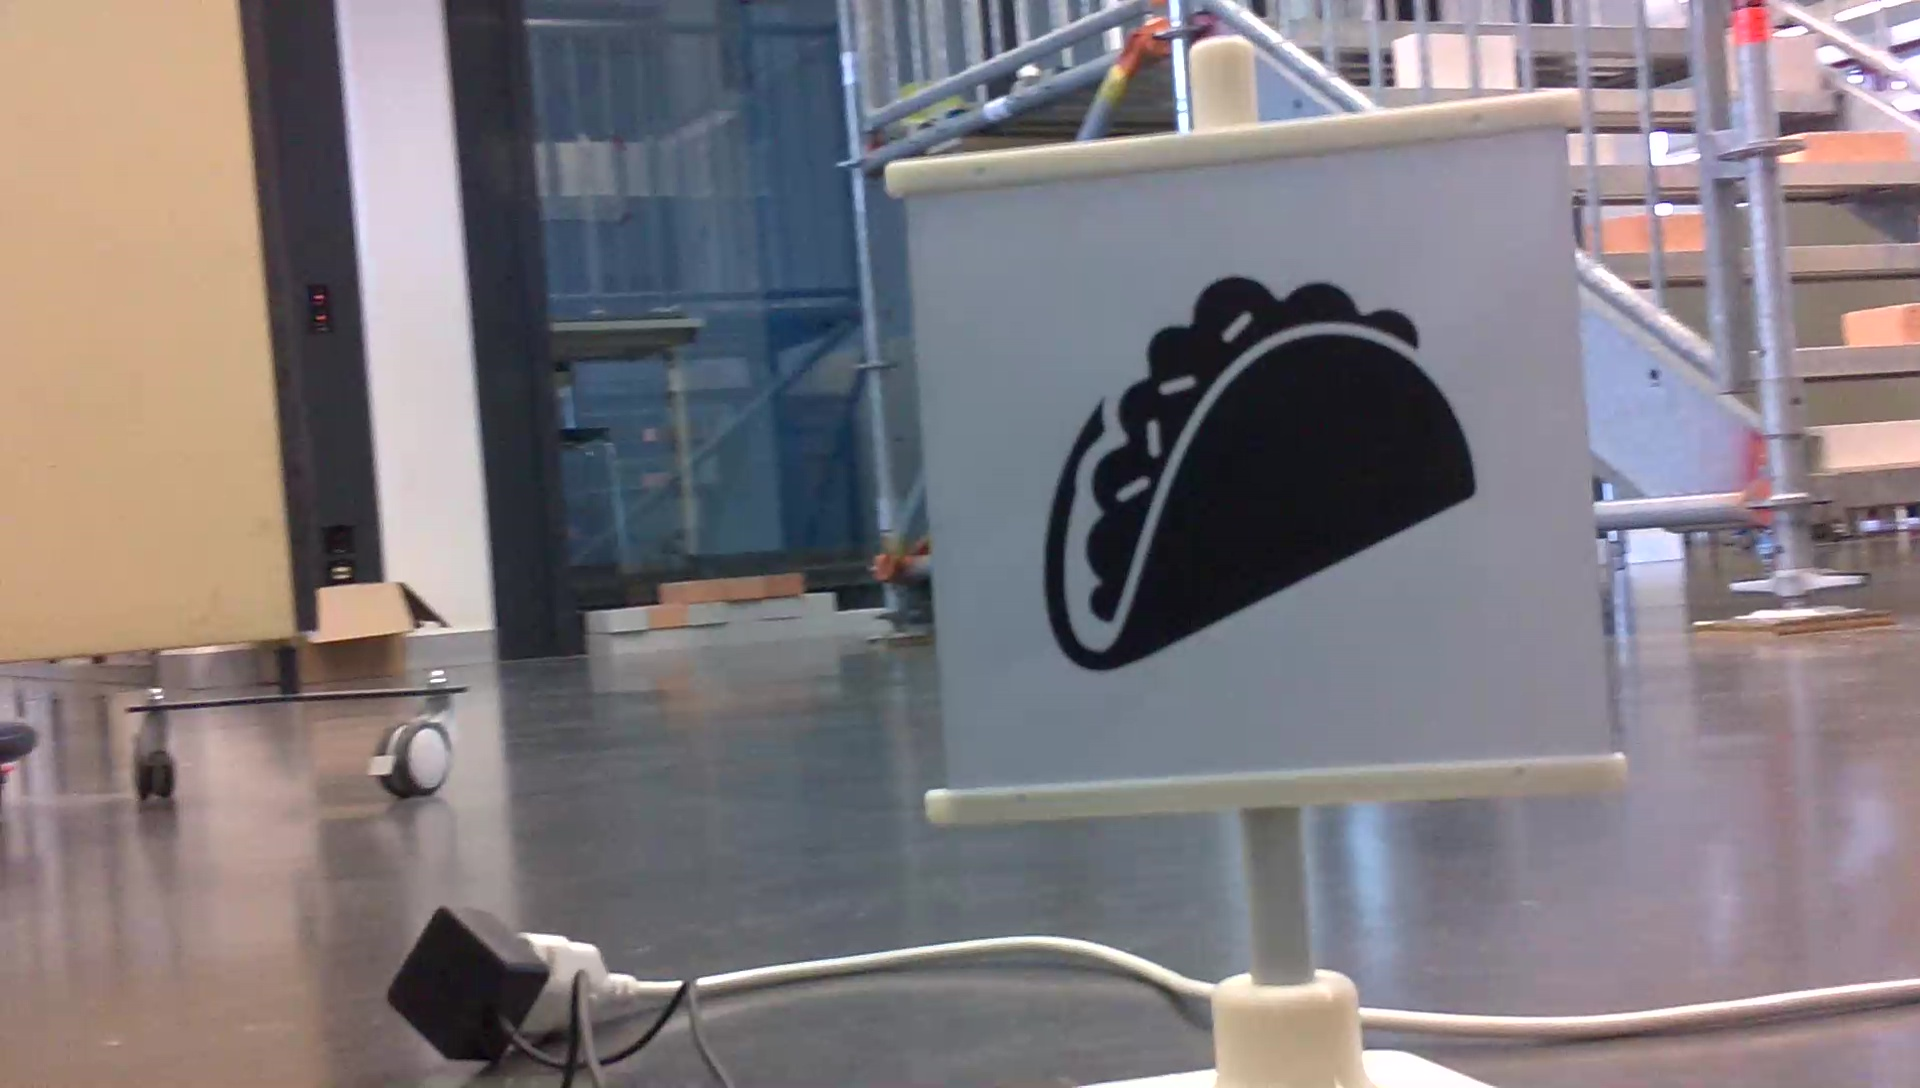brick: (1830, 418, 1917, 463), (1844, 295, 1917, 346), (1807, 129, 1903, 165), (1767, 40, 1815, 87)
taco: (1029, 260, 1487, 687)
